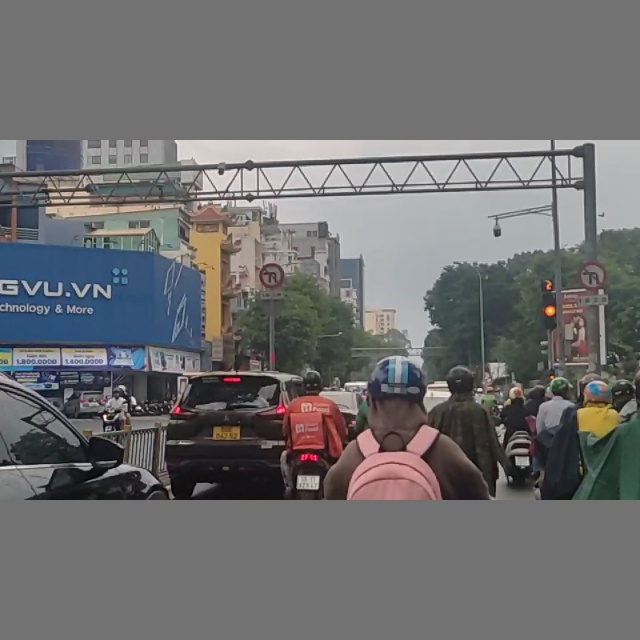P.124c: (258, 263, 285, 289), (579, 263, 606, 289)
